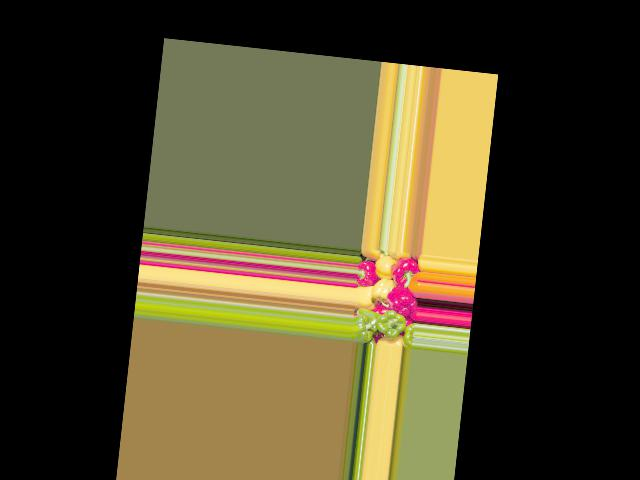bell_pepper: (398, 321, 416, 348)
